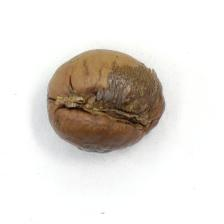NG: (87, 49, 160, 135)
